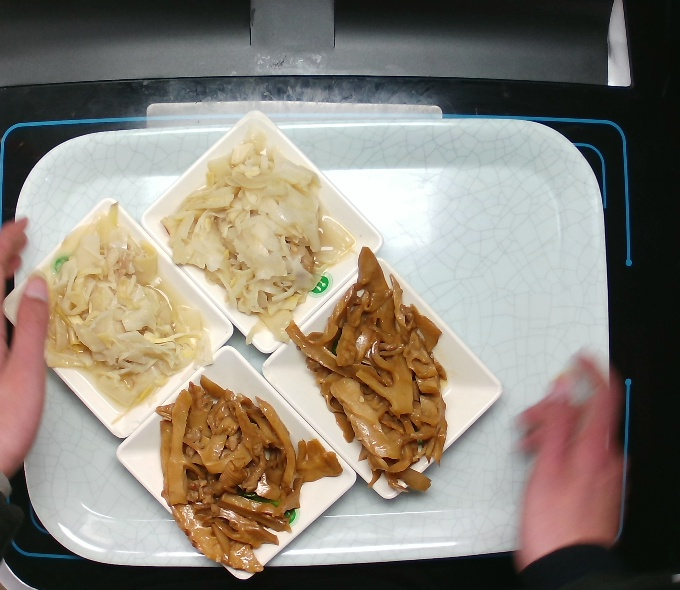wcq-LuSun: (172, 136, 349, 339), (42, 217, 209, 406)
wcq-SunGan: (291, 245, 450, 494), (157, 376, 338, 559)
